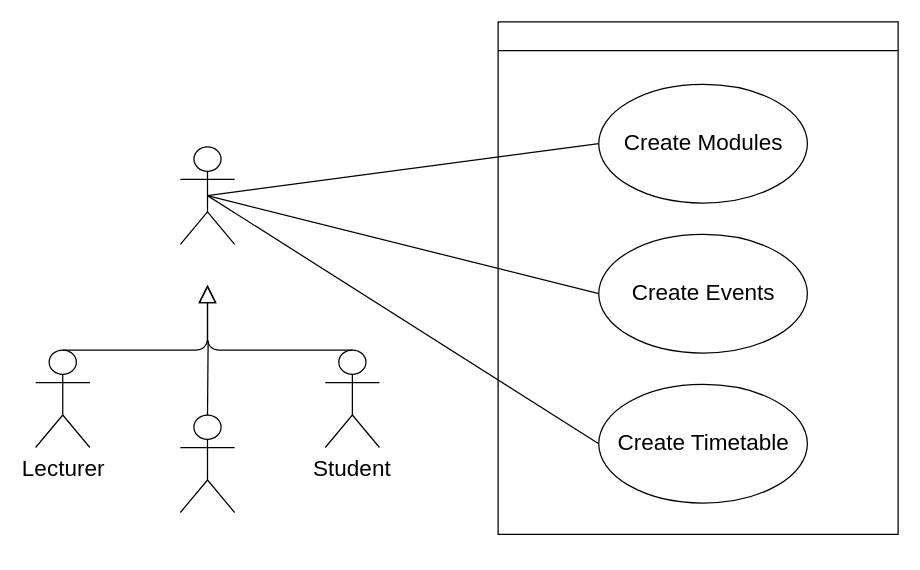
Image size: 920x570. Some labels were removed from this diagram. The shapes that lost their labels are listed below. From the top down, each one's box as (x1, y1, x2, y2) in pixels, then its label:
(179, 146, 235, 244): User
(497, 21, 898, 534): Timetable Creation System
(179, 414, 235, 512): University Admin
